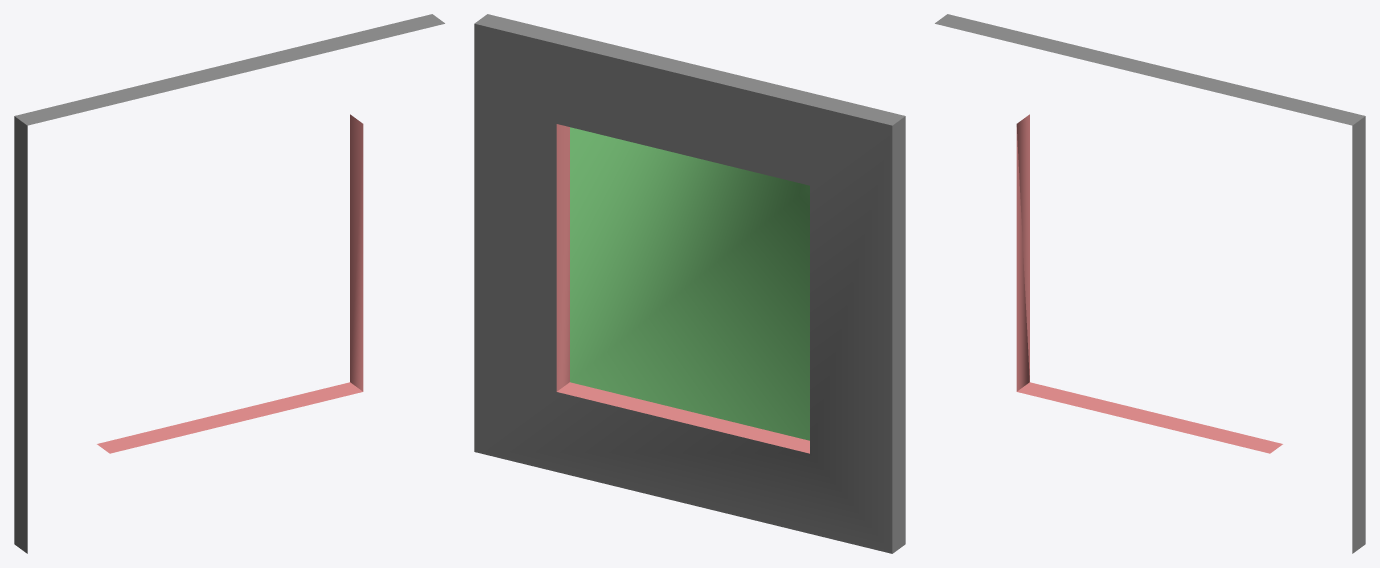
Rendered from sewage_128.gltf.
3 views of the same model, side by side, from view 1: azimuth 30°, elevation 25°; view 2: azimuth 150°, elevation 25°; view 3: azimuth 330°, elevation 25° (orthographic).
Parts seen in each view (by area): view 1: sewage_128; view 2: sewage_128; view 3: sewage_128.
Boxes of the visible parts, x1,y1,x2,y2 form: sewage_128: (14, 14, 444, 553); sewage_128: (474, 14, 905, 553); sewage_128: (935, 14, 1365, 553).
Bounding box in the file's own units: 1.83 × 1.79 × 0.1.
